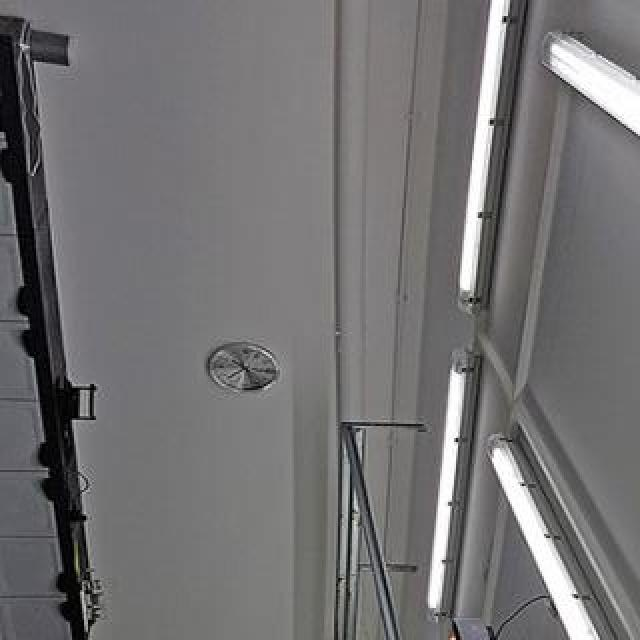fluorescent tube: (470, 378, 640, 640), (526, 0, 640, 234)
